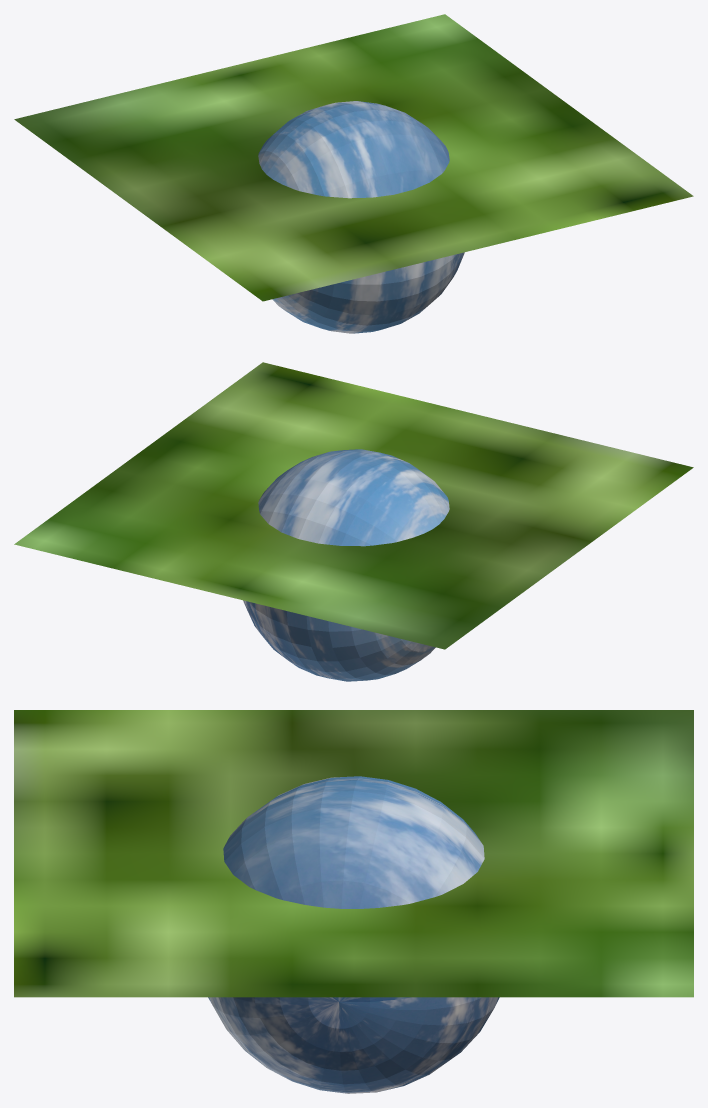
File: stadium_lanes.obj
The picture shows the model from 3 angles, top to bottom: view 1: azimuth 30°, elevation 25°; view 2: azimuth 150°, elevation 25°; view 3: azimuth 270°, elevation 25°; orthographic projection. The views are drawn at different scales.
Parts seen in each view (by area): view 1: Outside_Plane, Sky_2_Plane.001; view 2: Outside_Plane, Sky_2_Plane.001; view 3: Outside_Plane, Sky_2_Plane.001.
Part boxes in pixels (left/top/right/bottom): Outside_Plane: left=14, top=14, right=693, bottom=301; Sky_2_Plane.001: left=258, top=101, right=464, bottom=333; Outside_Plane: left=14, top=362, right=693, bottom=649; Sky_2_Plane.001: left=243, top=449, right=449, bottom=681; Outside_Plane: left=14, top=710, right=693, bottom=997; Sky_2_Plane.001: left=208, top=776, right=499, bottom=1093.
Size of the model in its own units: 593 by 278 by 593.
